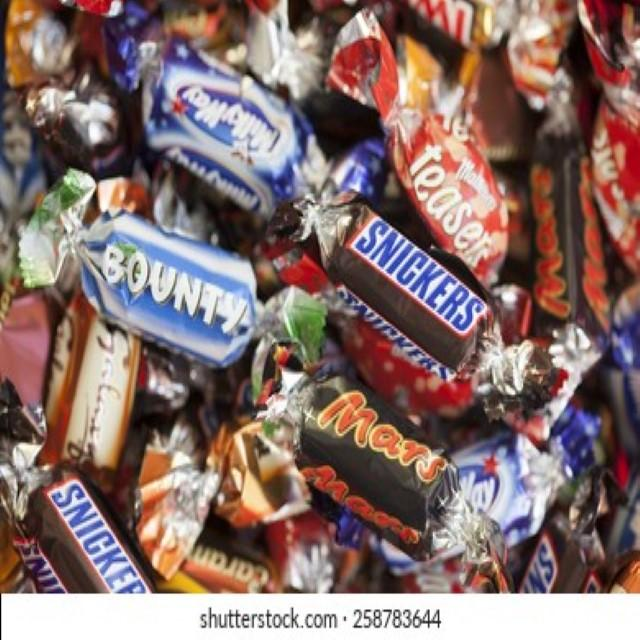mars_chocolate: (288, 408, 452, 532)
snickers_chocolate: (338, 218, 510, 372), (53, 453, 157, 627)
